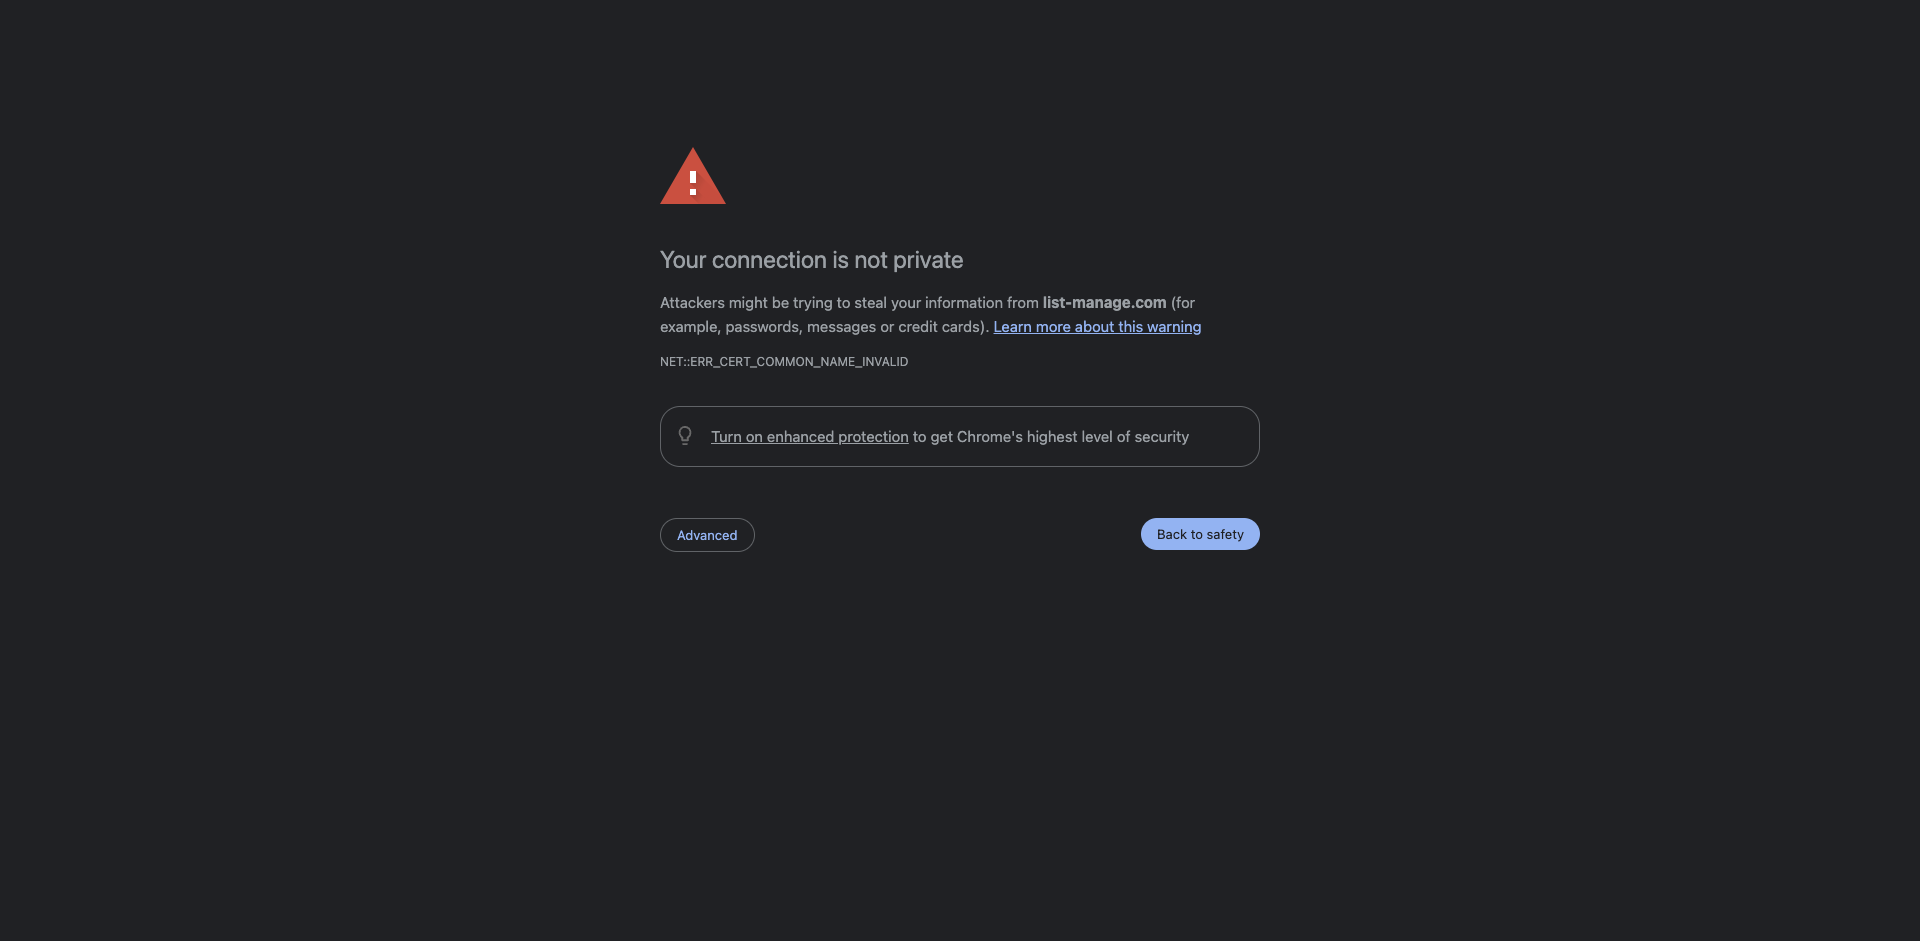button: (660, 349, 1260, 374), (1141, 518, 1260, 550), (660, 518, 754, 551)
label: (666, 417, 1254, 456)
link: (993, 317, 1201, 334), (711, 428, 909, 445)
